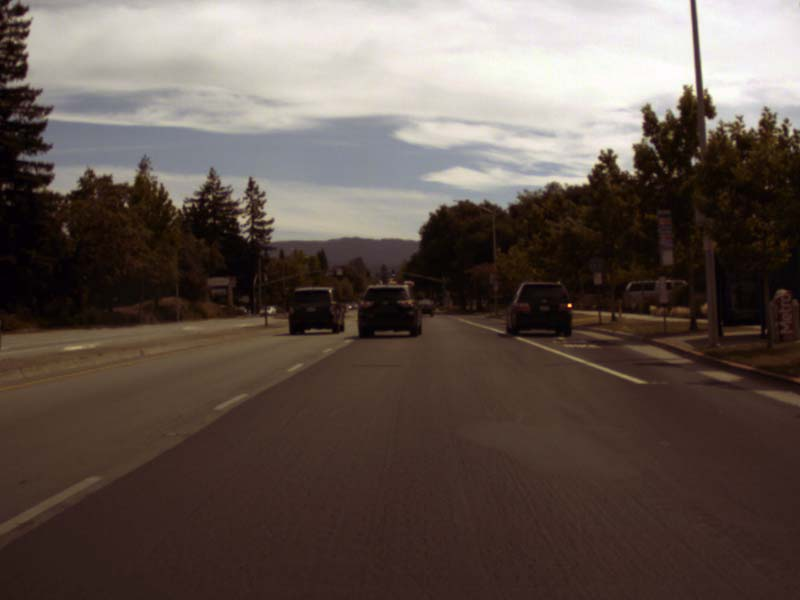Green: (391, 270, 395, 277)
